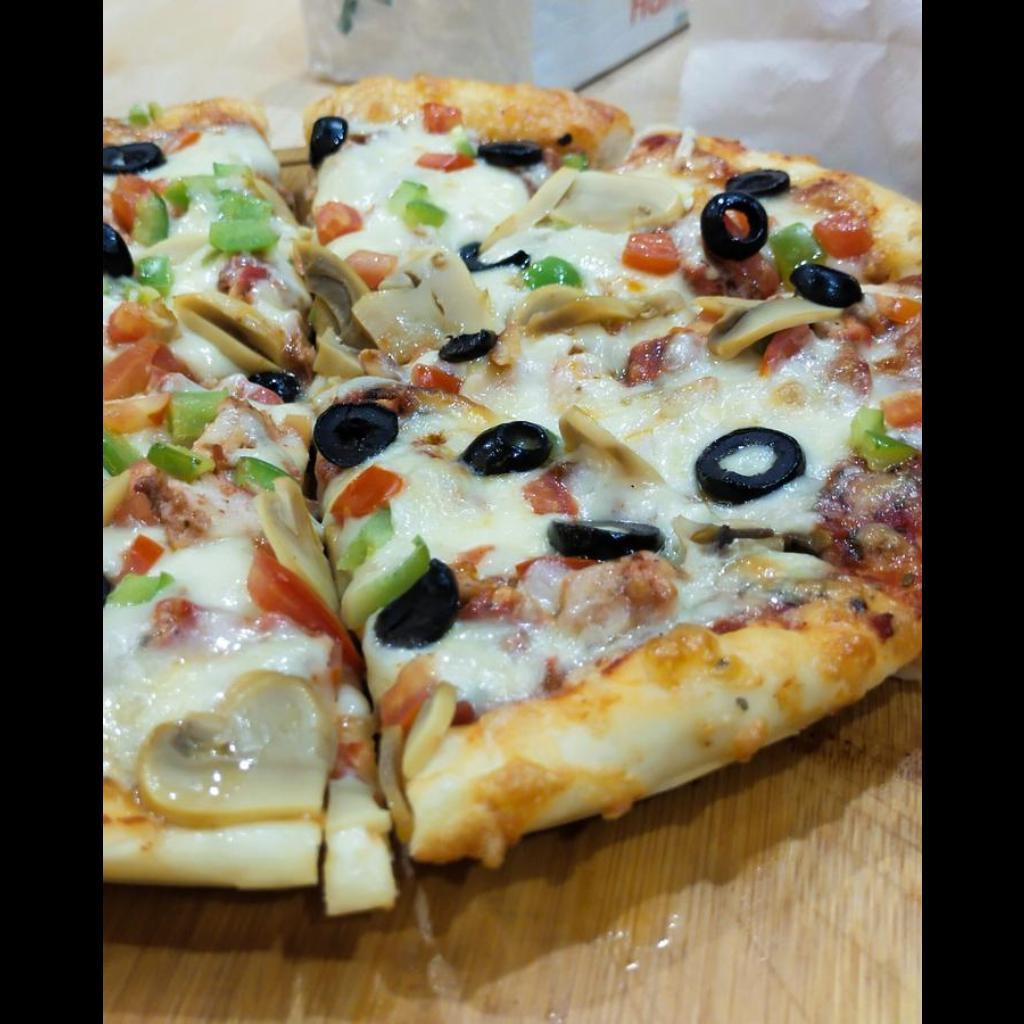ruti: (102, 72, 920, 923)
